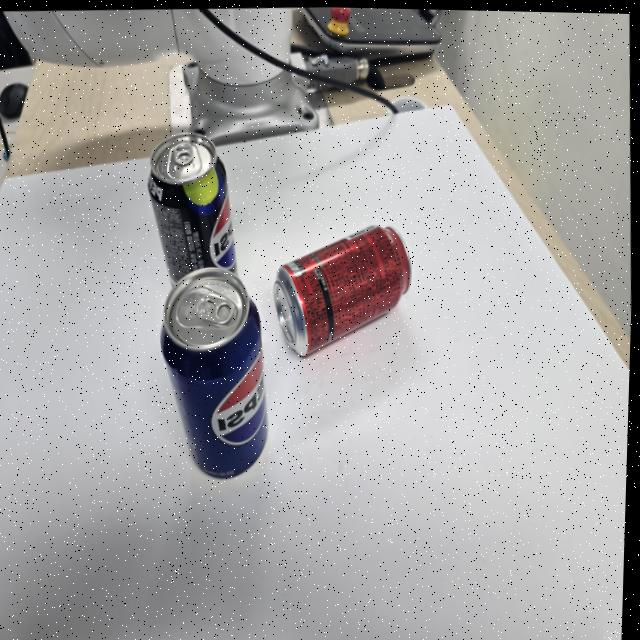can_coke_zero: (273, 225, 410, 355)
can_pepsi: (161, 267, 267, 478)
can_pepsi_zero: (148, 132, 236, 284)
